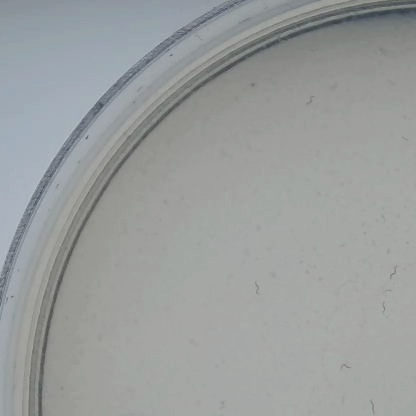worm: (385, 263, 402, 280), (334, 359, 354, 372), (305, 89, 316, 110), (329, 80, 340, 100), (251, 281, 265, 296), (367, 400, 380, 416), (380, 301, 389, 319), (398, 132, 410, 143), (380, 288, 395, 295)
